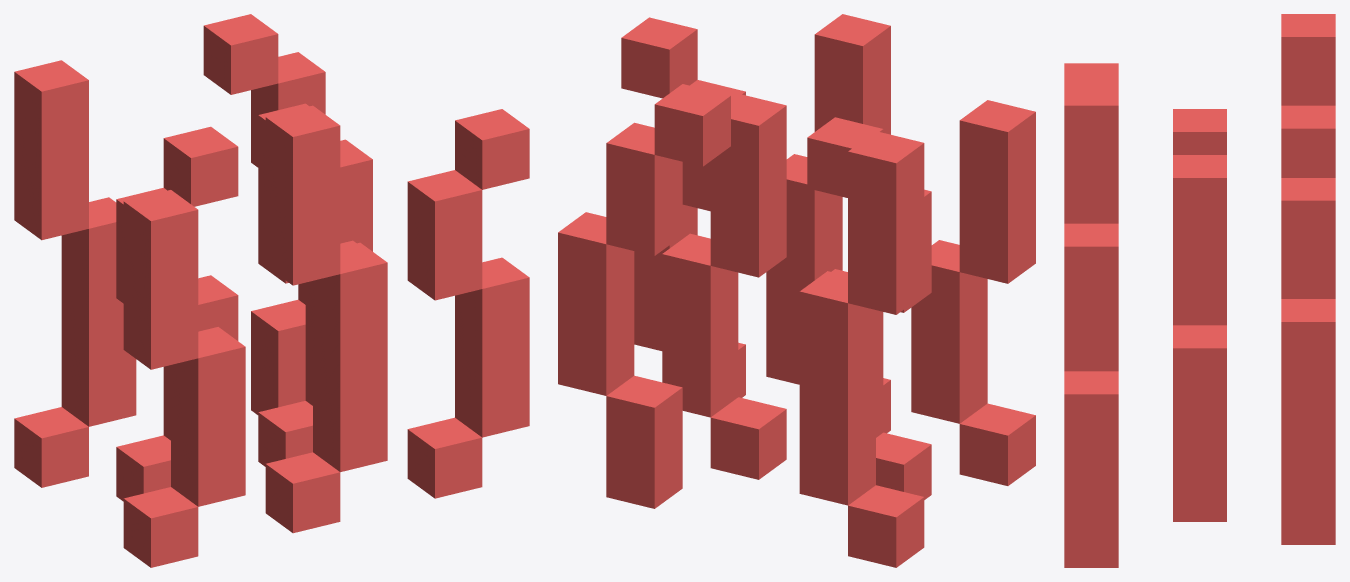
File: Tall Grass.fbx
3 views of the same model, side by side, from view 1: azimuth 30°, elevation 25°; view 2: azimuth 150°, elevation 25°; view 3: azimuth 270°, elevation 25° (orthographic). The views are drawn at different scales.
Visible parts, largest first — view 1: Cube.003, Cube.017, Cube.005, Cube.002, Cube.019, Cube, Cube.006, Cube.008, Cube.021, Cube.001, Cube.004, Cube.007 (+12 smaller); view 2: Cube.017, Cube.002, Cube.019, Cube.020, Cube.016, Cube.014, Cube, Cube.003, Cube.021, Cube.022, Cube.005, Cube.001 (+10 smaller); view 3: Cube.006, Cube.020, Cube.014, Cube.016, Cube.005, Cube.022, Cube.019, Cube.008, Cube.021, Cube.009, Cube.023, Cube.013 (+3 smaller).
Boxes of the visible parts, bbox=[...] form: Cube.003: bbox=[313, 242, 387, 472]; Cube.017: bbox=[61, 197, 136, 426]; Cube.005: bbox=[265, 105, 340, 285]; Cube.002: bbox=[123, 190, 198, 369]; Cube.019: bbox=[14, 60, 88, 240]; Cube: bbox=[171, 327, 245, 506]; Cube.006: bbox=[455, 257, 529, 437]; Cube.008: bbox=[407, 170, 482, 300]; Cube.021: bbox=[251, 299, 305, 414]; Cube.001: bbox=[123, 487, 198, 567]; Cube.004: bbox=[265, 452, 340, 533]; Cube.007: bbox=[407, 417, 482, 498]; Cube.017: bbox=[799, 271, 875, 505]; Cube.002: bbox=[959, 100, 1035, 283]; Cube.019: bbox=[848, 131, 924, 314]; Cube.020: bbox=[558, 212, 634, 395]; Cube.016: bbox=[710, 93, 786, 277]; Cube.014: bbox=[662, 233, 738, 417]; Cube: bbox=[911, 240, 987, 423]; Cube.003: bbox=[766, 154, 842, 384]; Cube.021: bbox=[606, 375, 682, 508]; Cube.022: bbox=[606, 122, 682, 255]; Cube.005: bbox=[814, 14, 890, 134]; Cube.001: bbox=[959, 403, 1035, 485]; Cube.006: bbox=[1064, 371, 1118, 541]; Cube.020: bbox=[1281, 299, 1335, 469]; Cube.014: bbox=[1173, 325, 1226, 495]; Cube.016: bbox=[1173, 155, 1226, 325]; Cube.005: bbox=[1064, 82, 1118, 223]; Cube.022: bbox=[1281, 178, 1335, 298]; Cube.019: bbox=[1281, 14, 1335, 105]; Cube.008: bbox=[1064, 296, 1118, 371]; Cube.021: bbox=[1281, 469, 1335, 544]; Cube.009: bbox=[1064, 223, 1118, 295]; Cube.023: bbox=[1281, 105, 1335, 177]; Cube.013: bbox=[1173, 109, 1226, 154].
Size of the model in its own units: 45.72 by 45.72 by 28.58.
